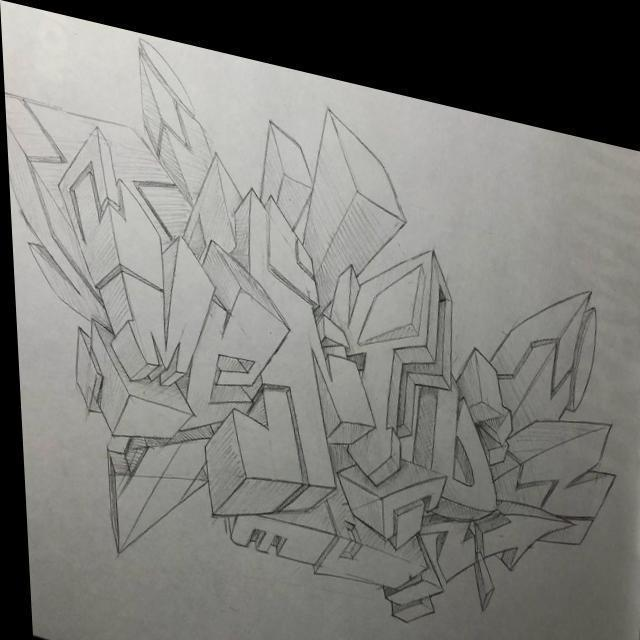nonspitting: (20, 45, 619, 622)
